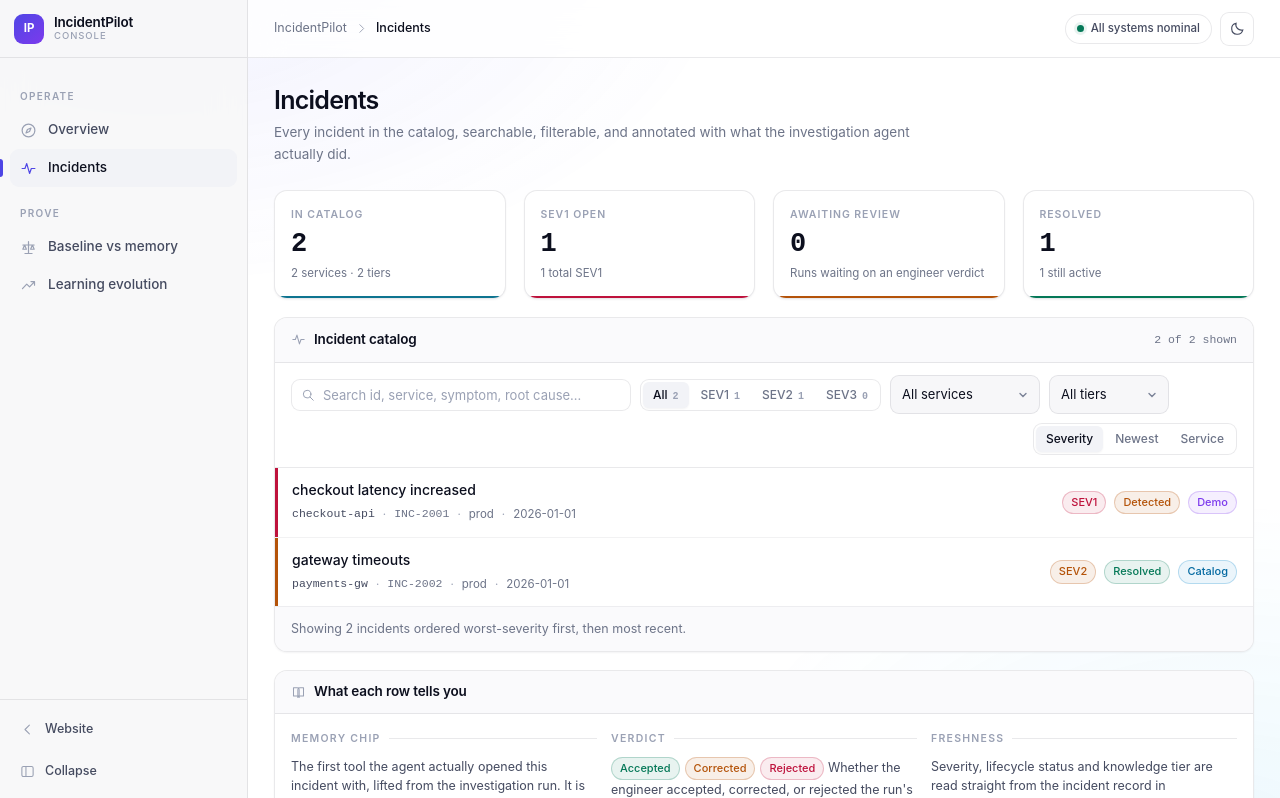
Test case: Incident catalog › restores every row when the filters are cleared
Expected: the text "checkout latency increased" is shown, [292,481,476,498]
Select "checkout-api" in the dropdown named "Filter by service": (965, 395) [890,375,1040,414]
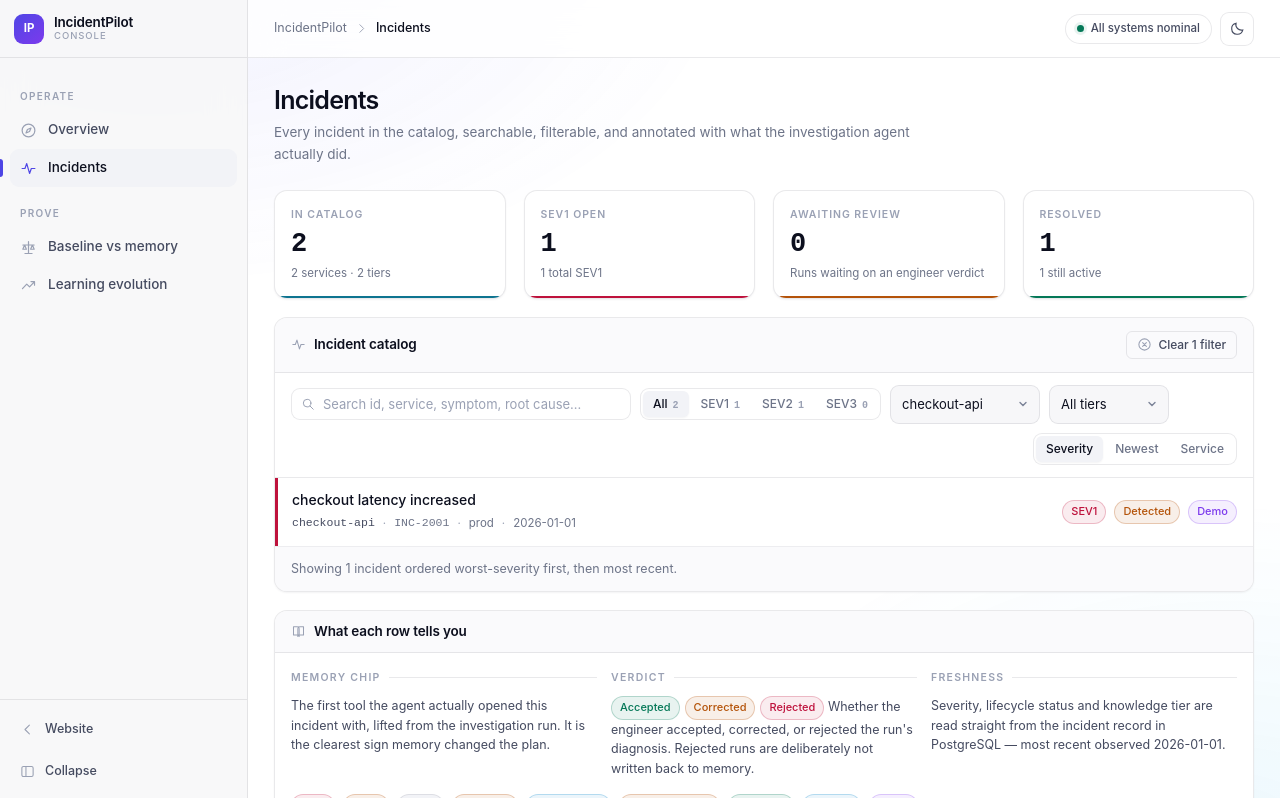
Now the link "gateway timeouts" is gone
Click the button "Clear 1 filter": (1181, 344) [1126,330,1237,358]
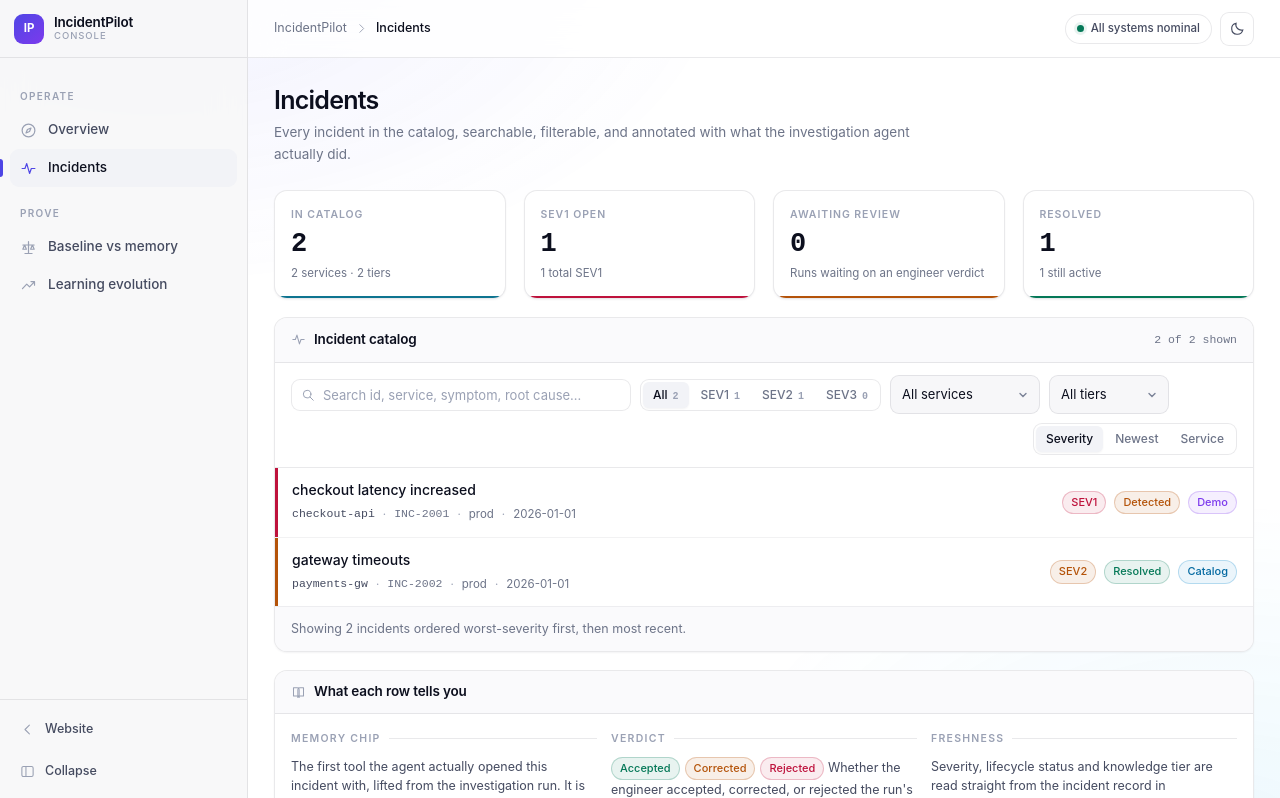
Now the text "gateway timeouts" is shown, box [292,551,410,568]
